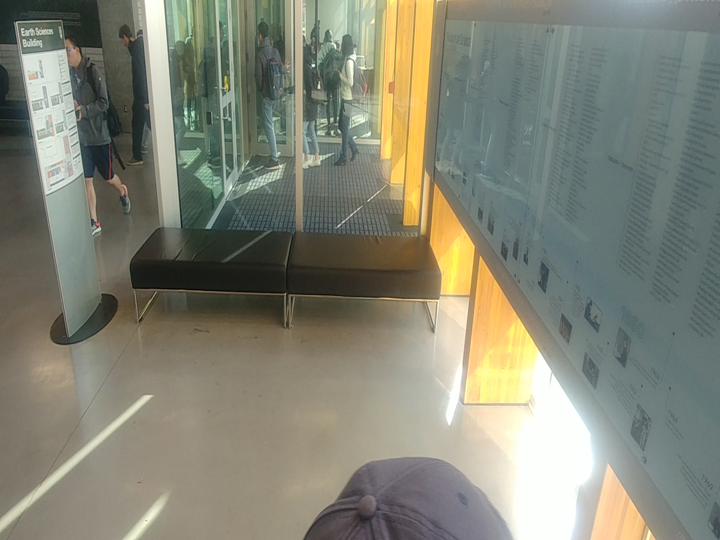face: (114, 20, 142, 55), (333, 30, 358, 63), (64, 30, 85, 69), (250, 16, 272, 46)
human: (64, 30, 135, 241), (251, 11, 293, 173), (115, 19, 153, 176), (331, 30, 370, 173), (301, 41, 329, 177)
